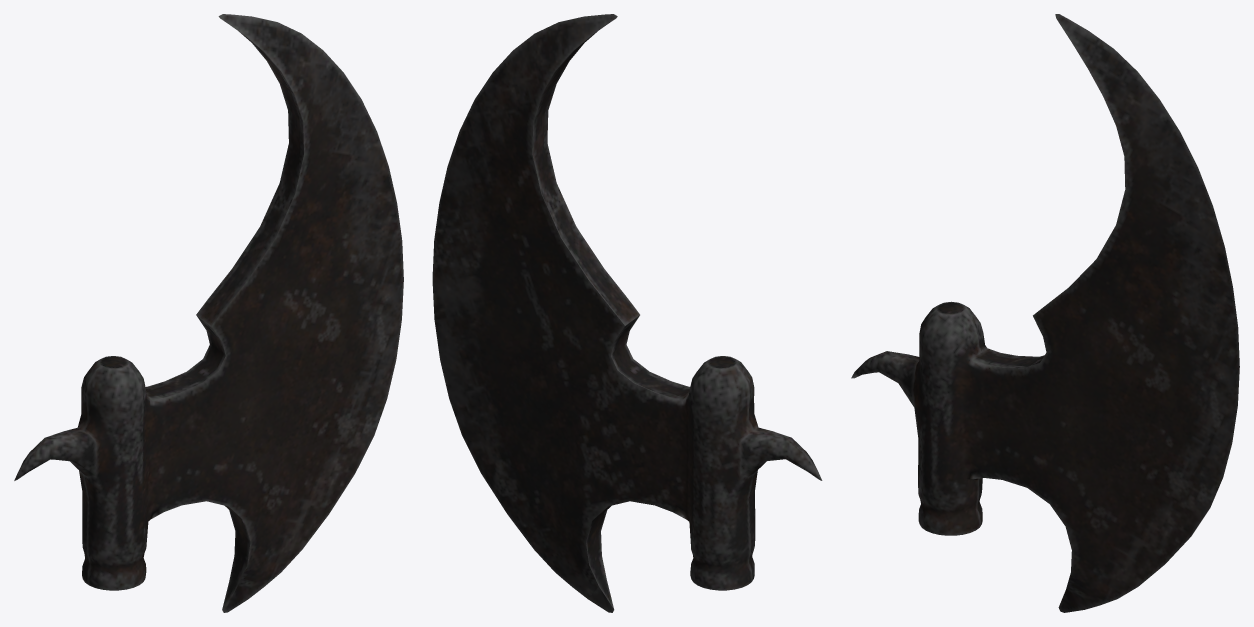
The model's file is wm_dol_goldur_2h_axe_a01_blade.fbx.
The picture shows the model from 3 angles, left to right: view 1: azimuth 30°, elevation 25°; view 2: azimuth 150°, elevation 25°; view 3: azimuth 330°, elevation 25°; orthographic projection.
Parts seen in each view (by area): view 1: wm_dol_goldur_2h_axe_a01_blade; view 2: wm_dol_goldur_2h_axe_a01_blade; view 3: wm_dol_goldur_2h_axe_a01_blade.
Part boxes in pixels (bbox=[...]): wm_dol_goldur_2h_axe_a01_blade: bbox=[14, 14, 403, 612]; wm_dol_goldur_2h_axe_a01_blade: bbox=[432, 14, 822, 612]; wm_dol_goldur_2h_axe_a01_blade: bbox=[851, 14, 1239, 612].
Bounding box in the file's own units: 0.26 × 0.0383 × 0.3821.
1 material, 1 textured.
